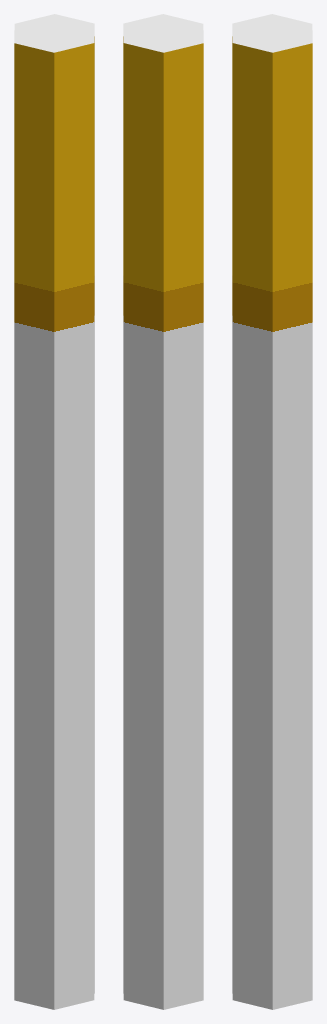
The model's file is cigarrette.obj.
3 renders of one model, left to right at view 1: azimuth 30°, elevation 25°; view 2: azimuth 150°, elevation 25°; view 3: azimuth 330°, elevation 25°, orthographic.
Visible parts, largest first — view 1: cylinder; view 2: cylinder; view 3: cylinder.
Part boxes in pixels (bbox=[...]): cylinder: bbox=[14, 14, 94, 1009]; cylinder: bbox=[123, 14, 203, 1009]; cylinder: bbox=[232, 14, 312, 1009].
Size of the model in its own units: 0.0659 by 0.75 by 0.0563.
1 material, 1 textured.
